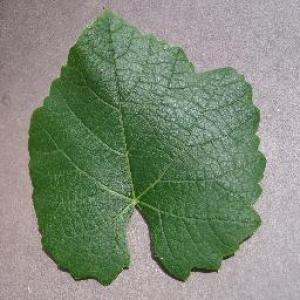Folha: (27, 6, 266, 286)
